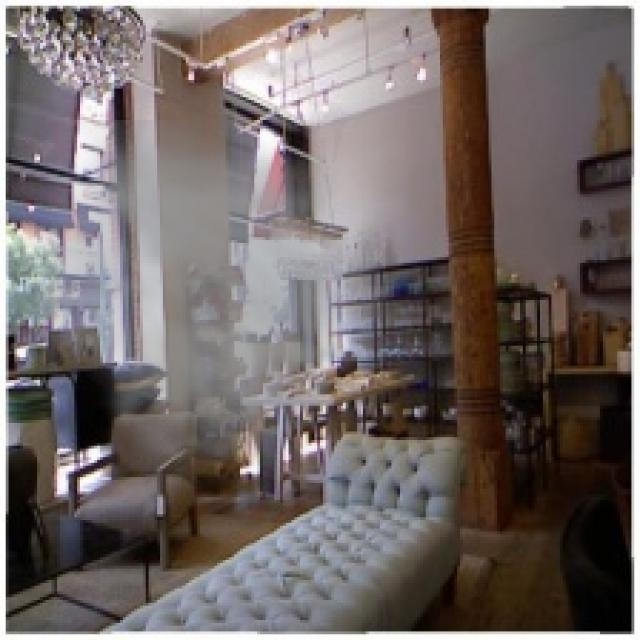Smoke: (0, 120, 415, 509)
